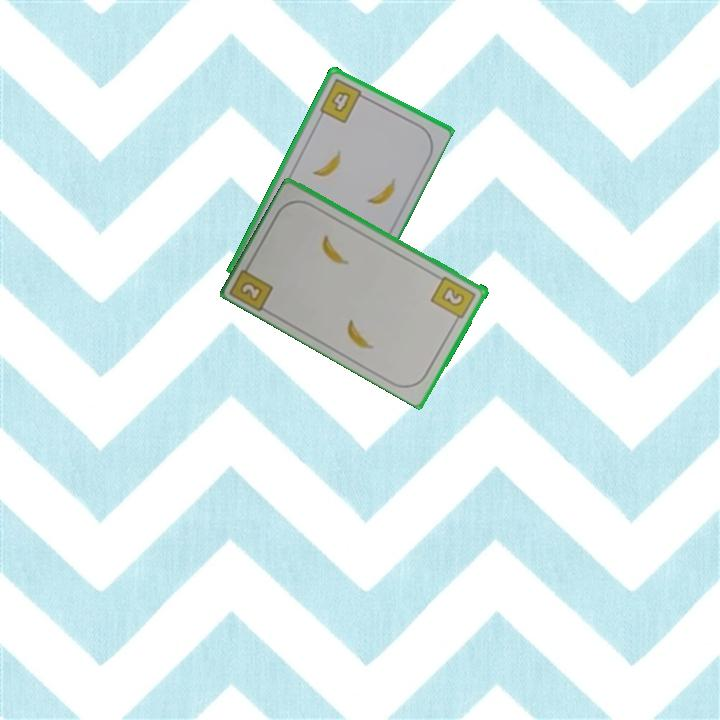2b: (428, 272, 479, 326), (236, 278, 265, 304)
4b: (316, 75, 369, 126)
